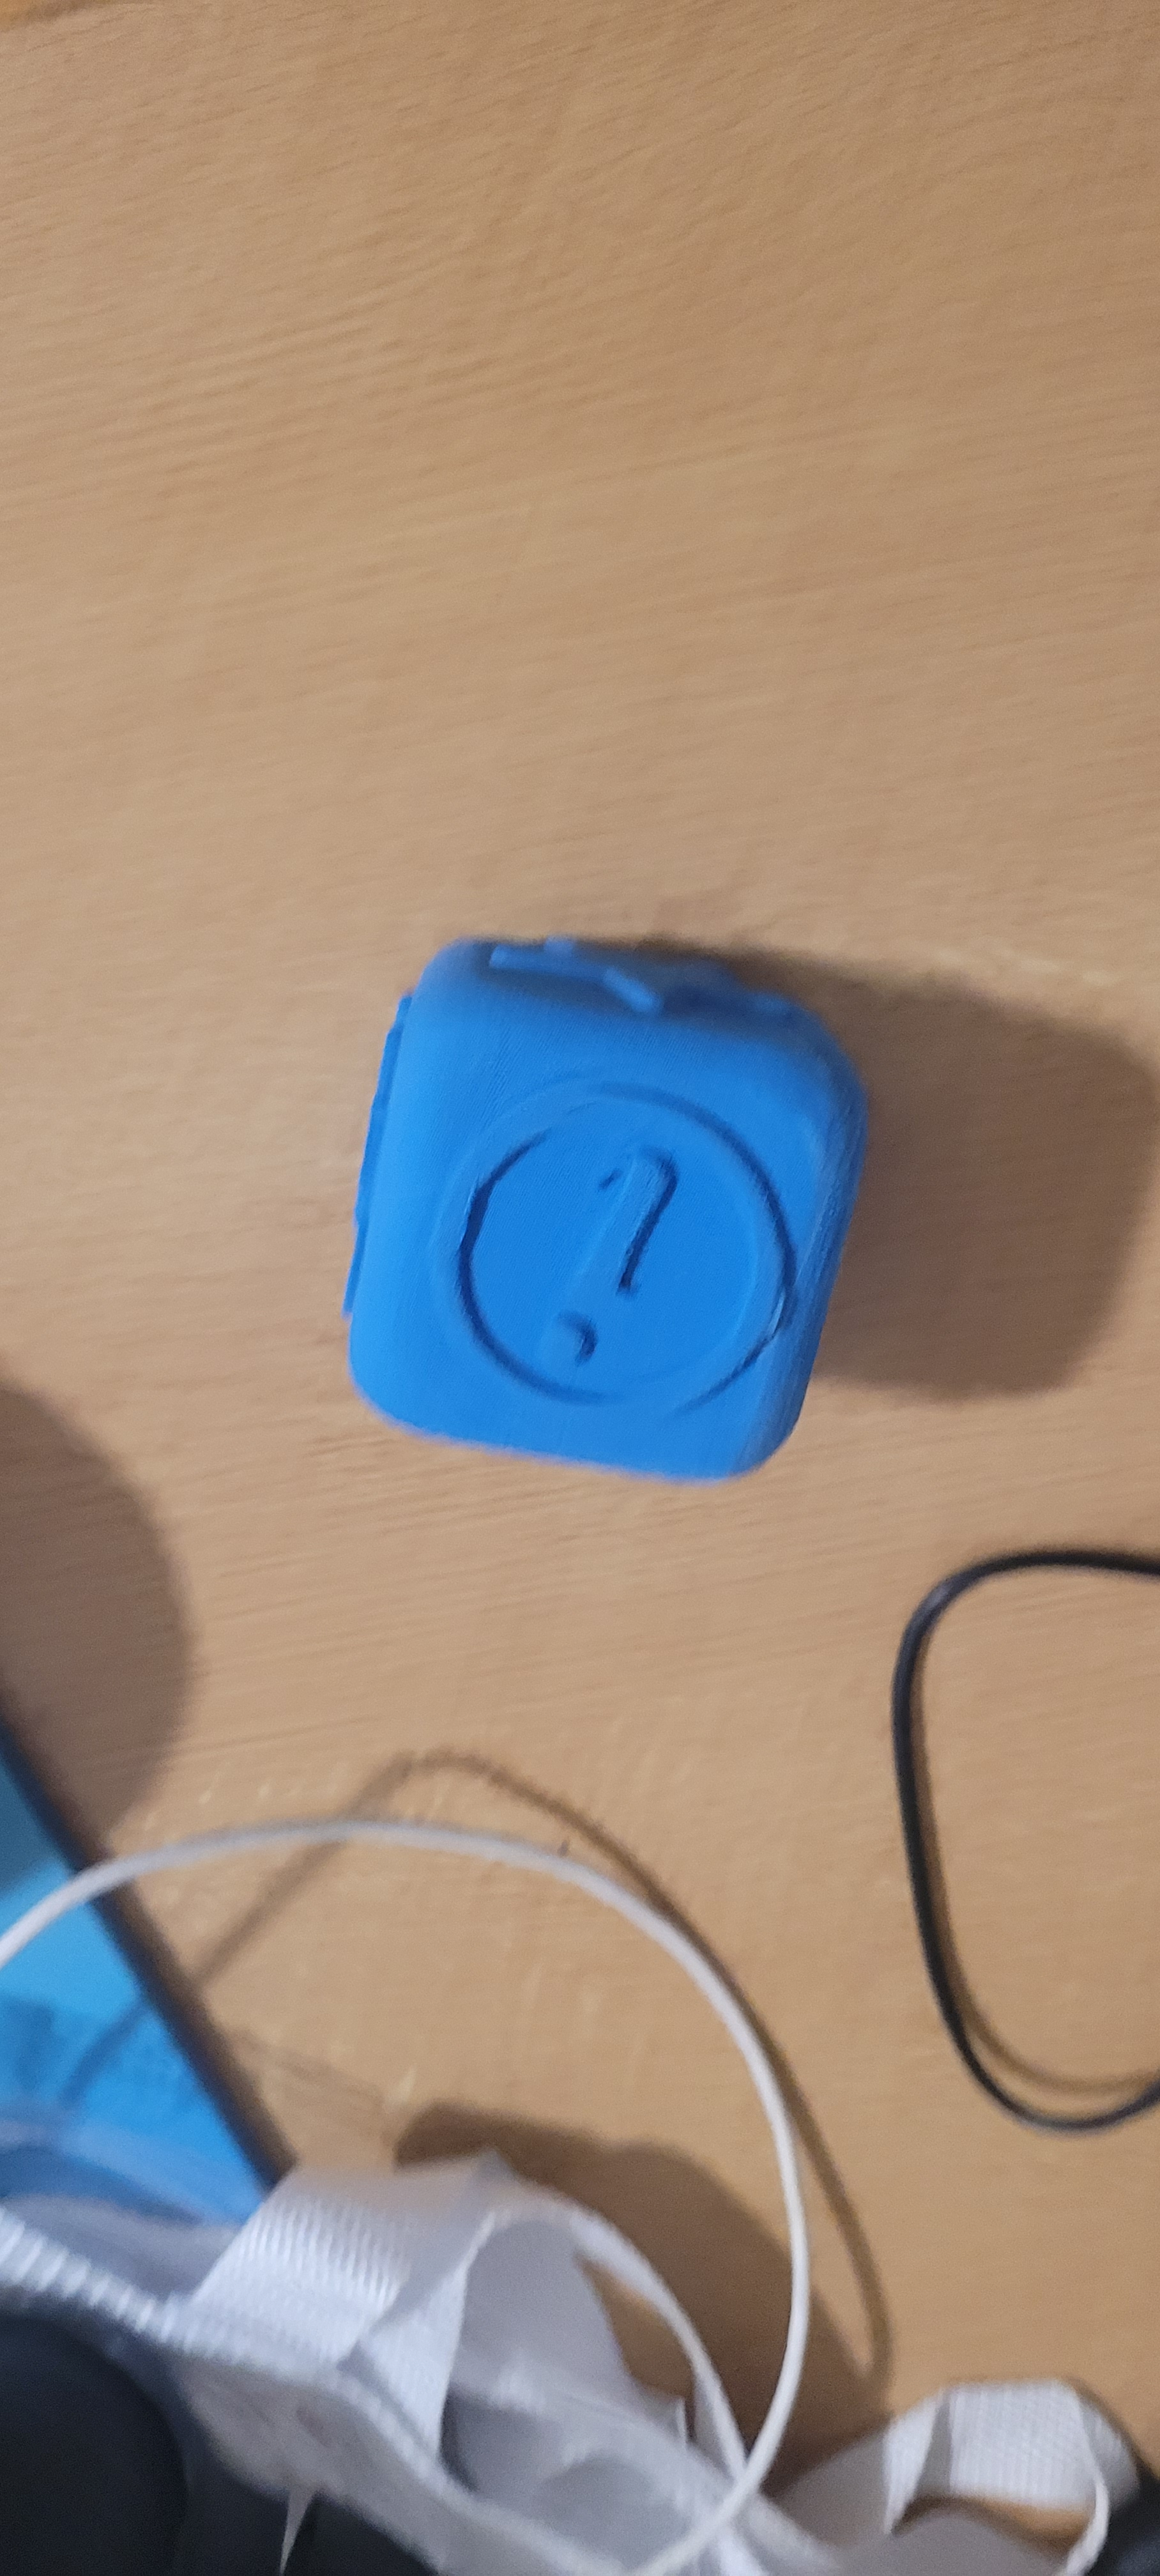Info: (434, 1040, 836, 1470)
